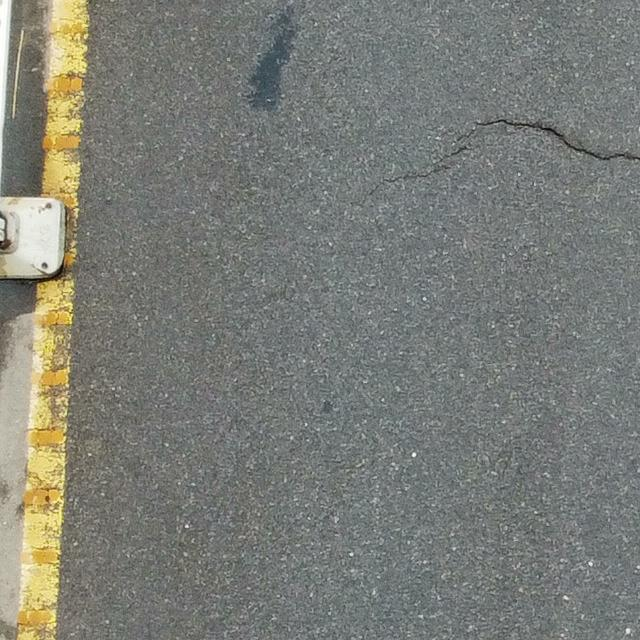TransverseCrack: (368, 119, 640, 192)
